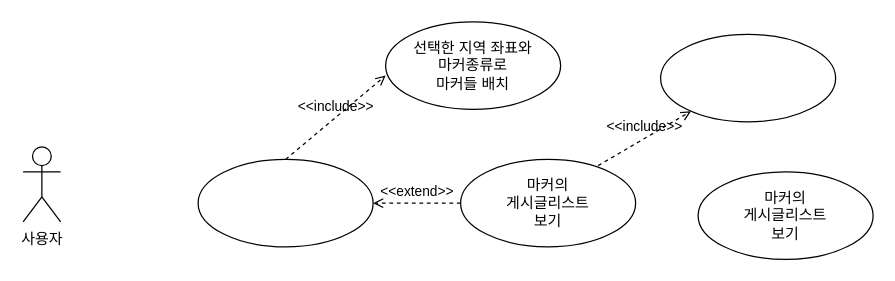
Image size: 895x281. Some labels were removed from this diagram. Here are the shapes that lost their labels. From the top down, the centre of each, then its label:
At pixel 747 77: "마커선택".
At pixel 285 202: "선택한 지역 좌표의 카카오지도(API)".
